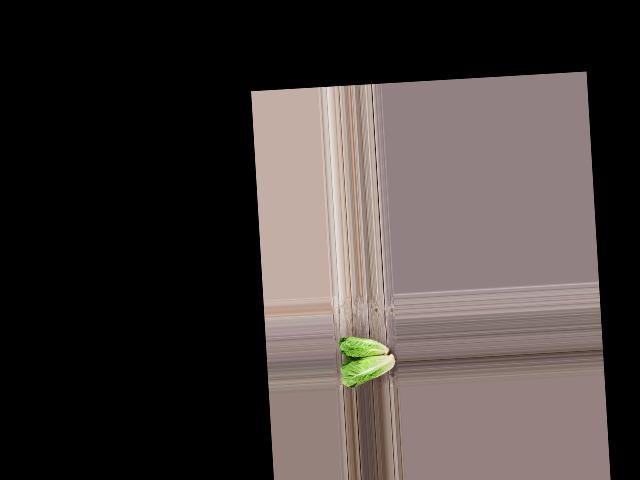lettuce: (337, 353, 399, 389)
